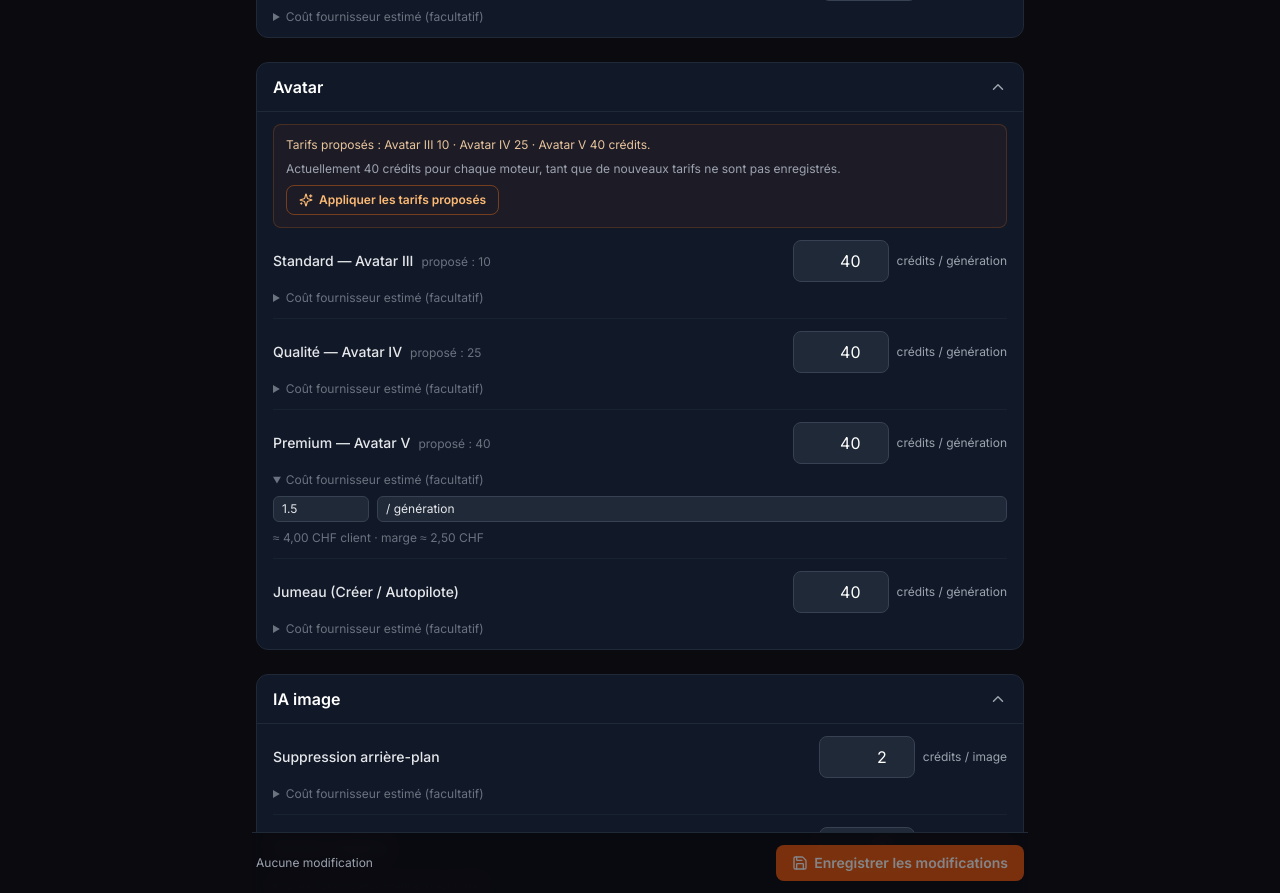
it: /admin/tarifs › Annuler n’envoie rien
The image size is (1280, 893).
(page scrolled)
Step 1. Replace the text in the number field labelled "Premium — Avatar V" with "60" → (840, 443), box [792,422,888,464]
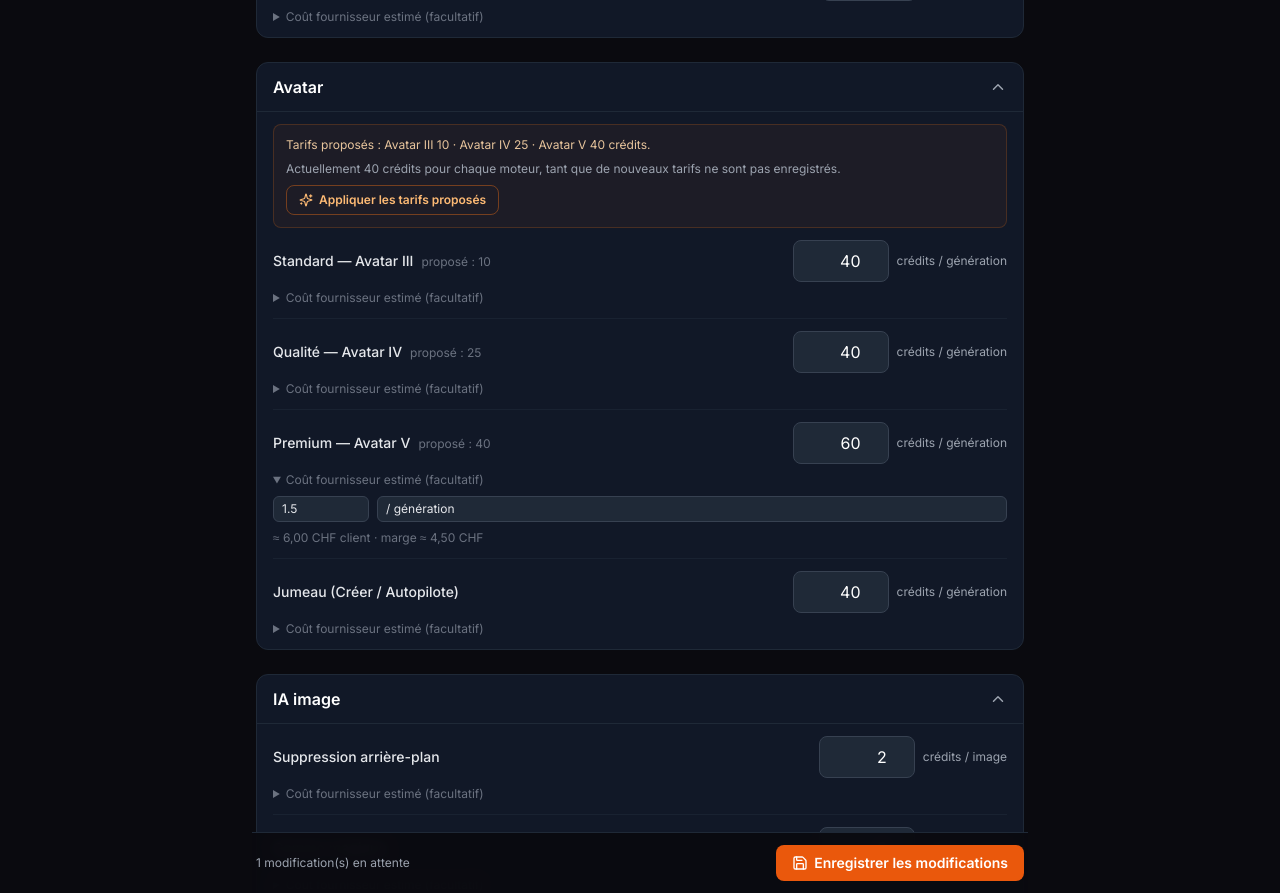
Step 2. Click the button "Enregistrer les modifications" → click(900, 863), box [776,845,1024,881]
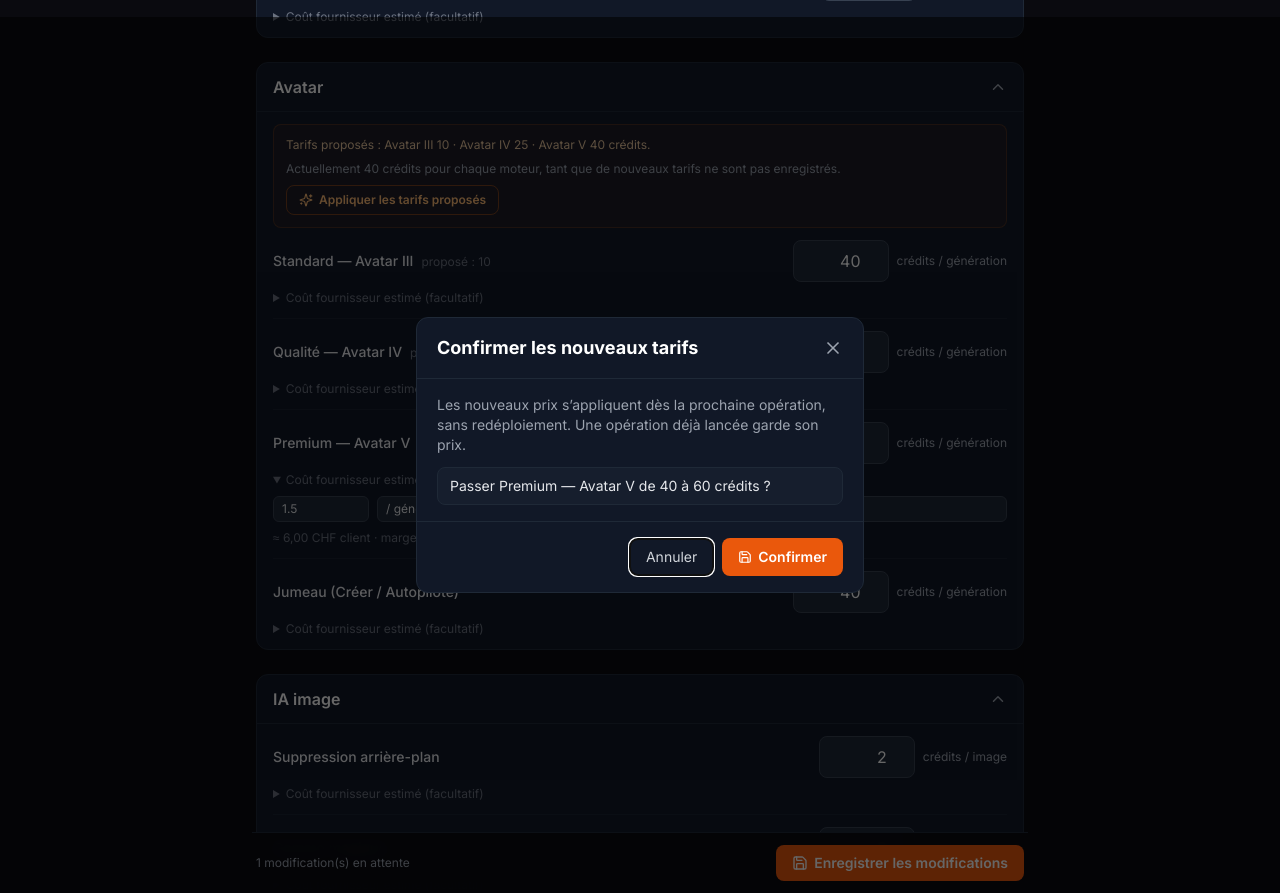
Step 3. Click the button "Annuler" → click(672, 557), box [629,538,714,576]
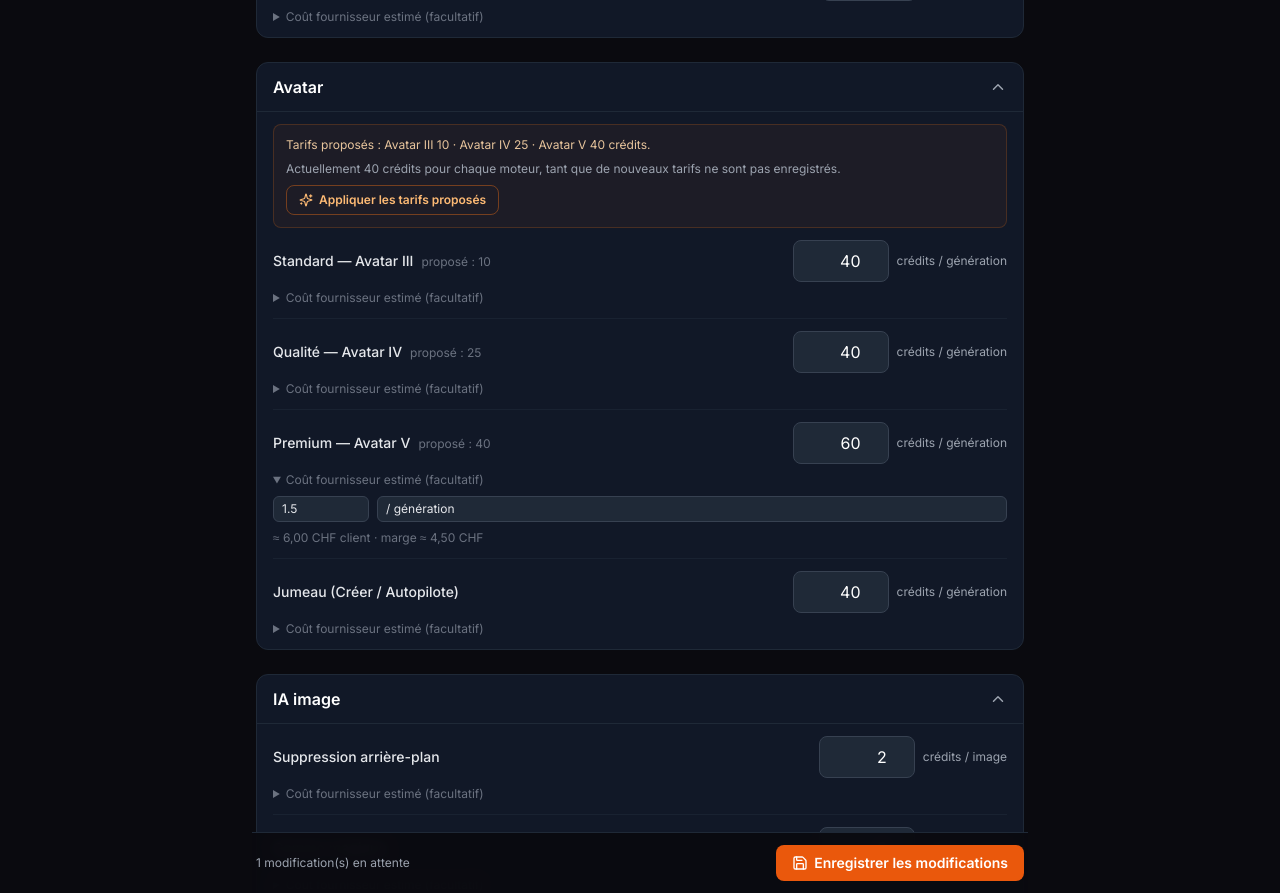
Now the dialog is gone
